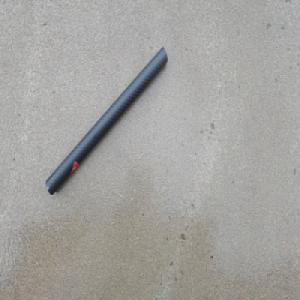LuggagePart: (43, 42, 171, 199)
